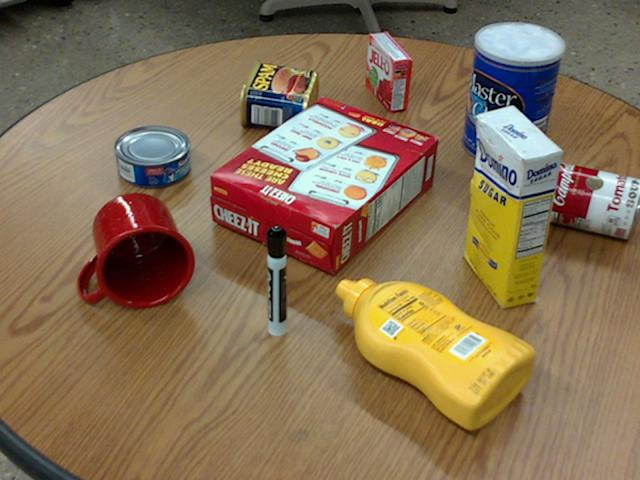cracker_box: (208, 97, 436, 274)
gelatin_box: (366, 32, 411, 110)
large_marker: (265, 224, 285, 336)
master_chef_can: (462, 22, 564, 165)
mug: (76, 193, 193, 308)
mustard_bottle: (335, 278, 533, 428)
potted_meat_can: (239, 59, 318, 129)
sugar_box: (465, 105, 560, 308)
tomato_soup_can: (535, 158, 639, 237)
tuna_fish_can: (113, 124, 189, 186)
